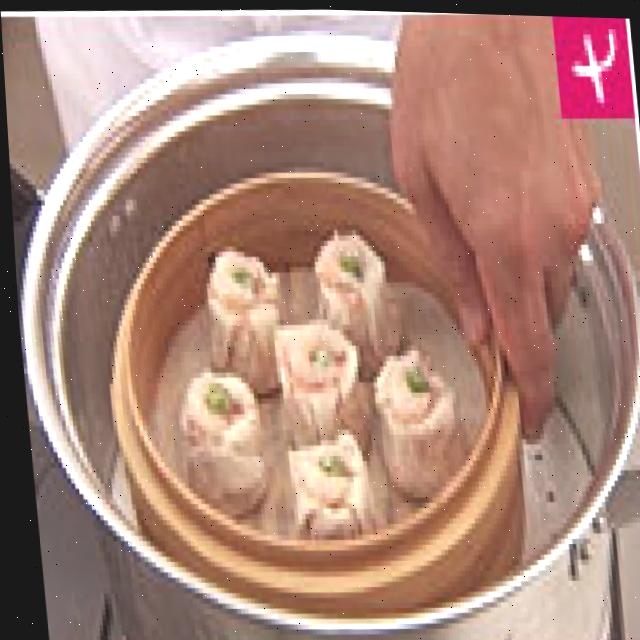带馅早点: (161, 215, 470, 541)
